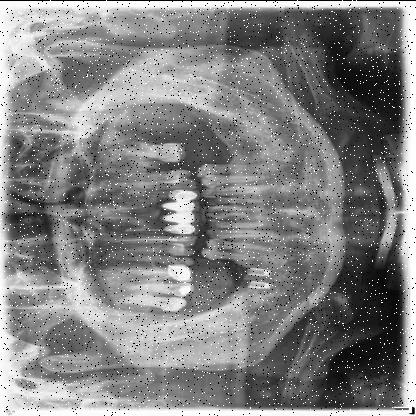Bicon: (243, 264, 276, 277), (244, 280, 275, 289)
